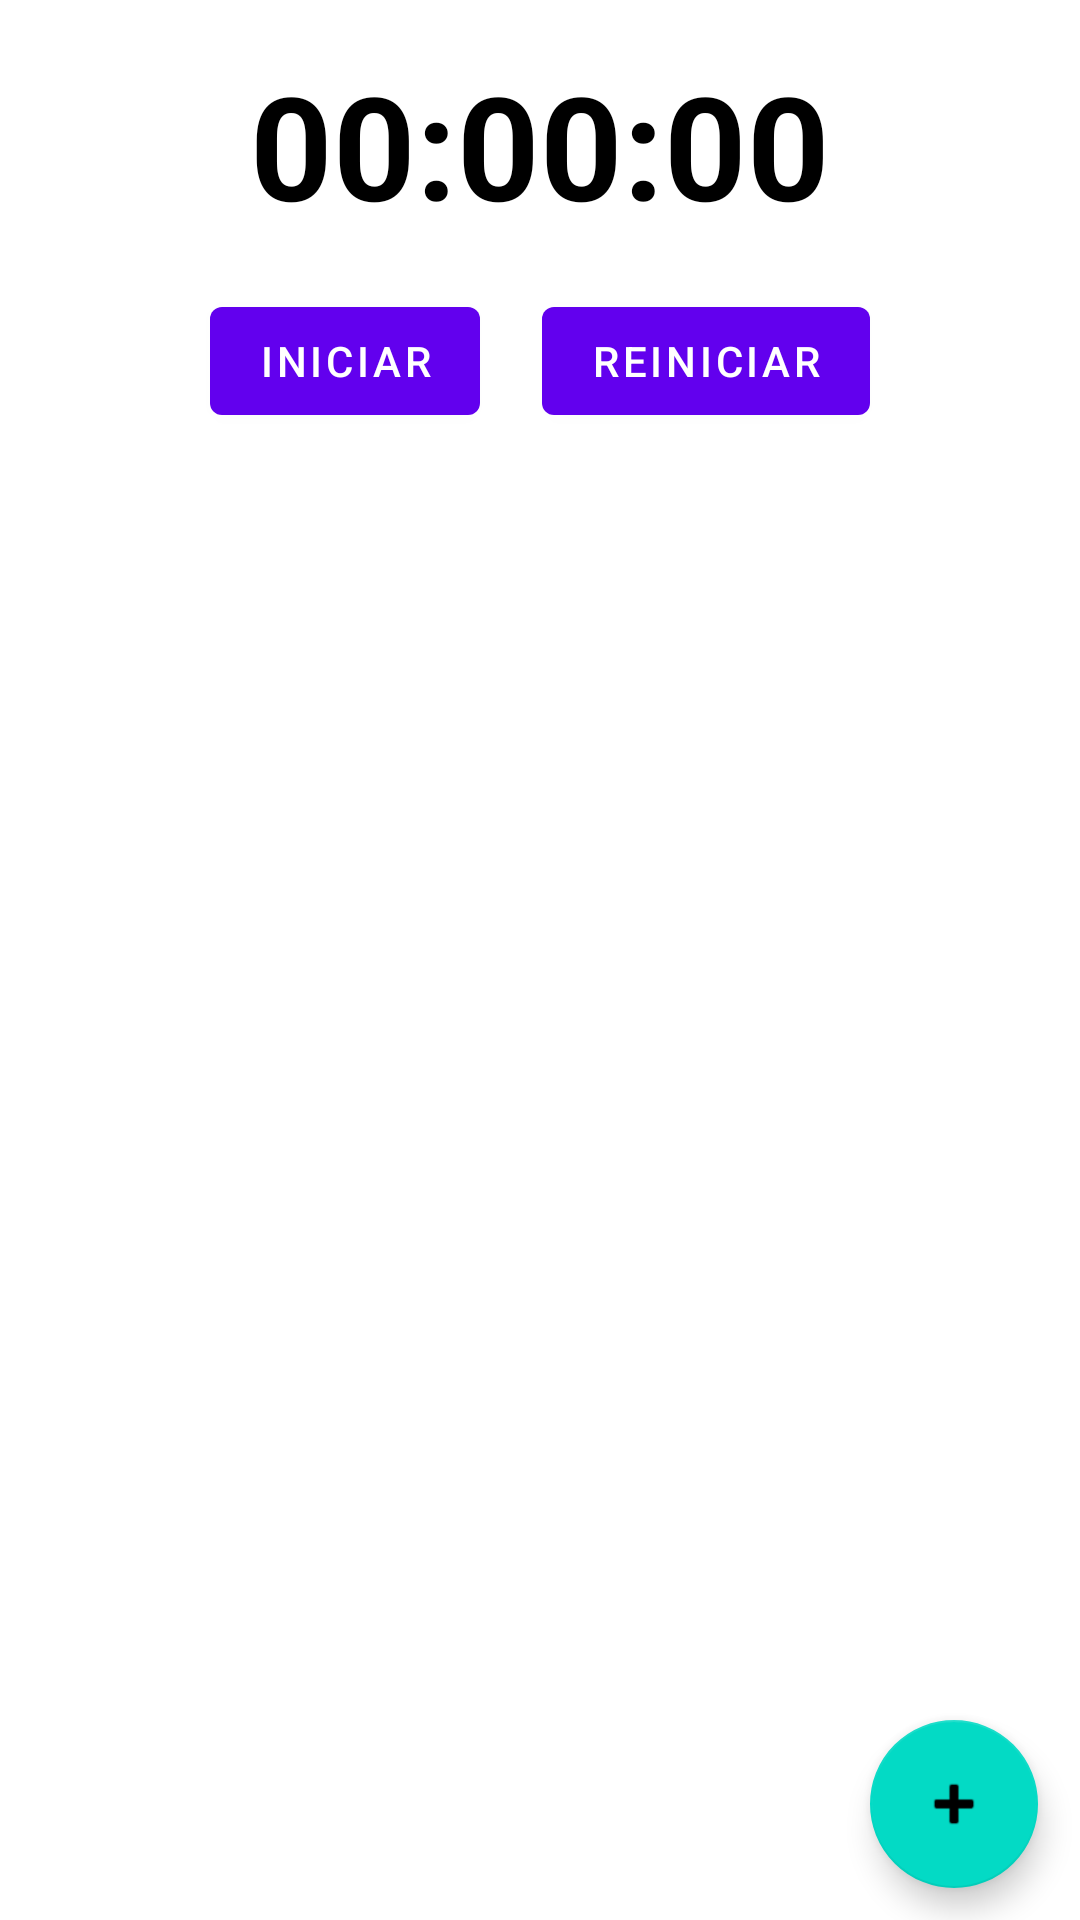

Named icons in this screenshot (1080 × 1920) and their bounding boxes, (x1, y1, x2, y2):
add: (870, 1720, 1038, 1888)
